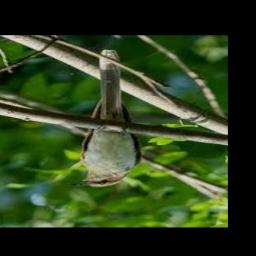Cuckoo: (68, 52, 142, 187)
